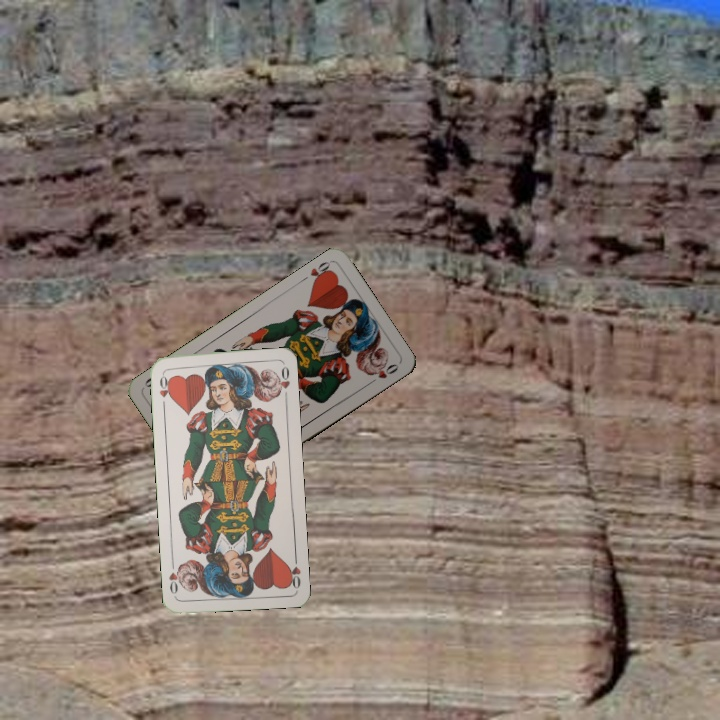HO: (297, 257, 335, 286), (155, 369, 174, 410), (285, 550, 303, 591)
